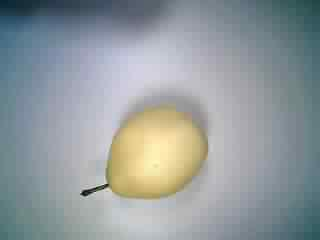pear: (74, 99, 219, 209)
